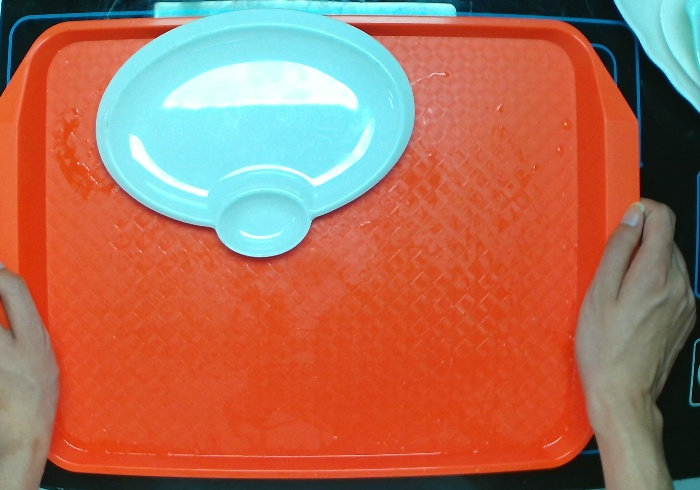RJxy-Zhan_Liao_Pan: (94, 6, 417, 259)
